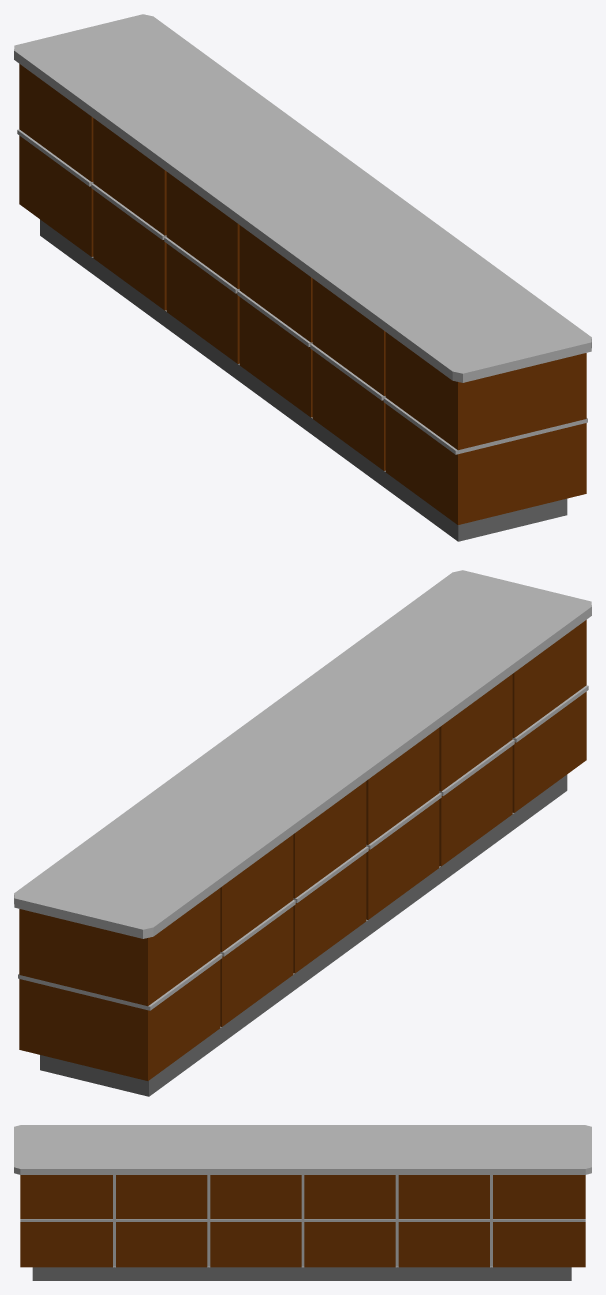
The model's file is KitchenIsland.fbx.
3 views of the same model, one above another, from view 1: azimuth 30°, elevation 25°; view 2: azimuth 150°, elevation 25°; view 3: azimuth 270°, elevation 25° (orthographic). The views are drawn at different scales.
Parts seen in each view (by area): view 1: KitchenIsland; view 2: KitchenIsland; view 3: KitchenIsland.
Boxes of the visible parts, x1=… form: KitchenIsland: x1=14, y1=14, x2=591, y2=541; KitchenIsland: x1=14, y1=570, x2=591, y2=1096; KitchenIsland: x1=14, y1=1125, x2=591, y2=1280.
Size of the model in its own units: 163 by 202 by 907.
